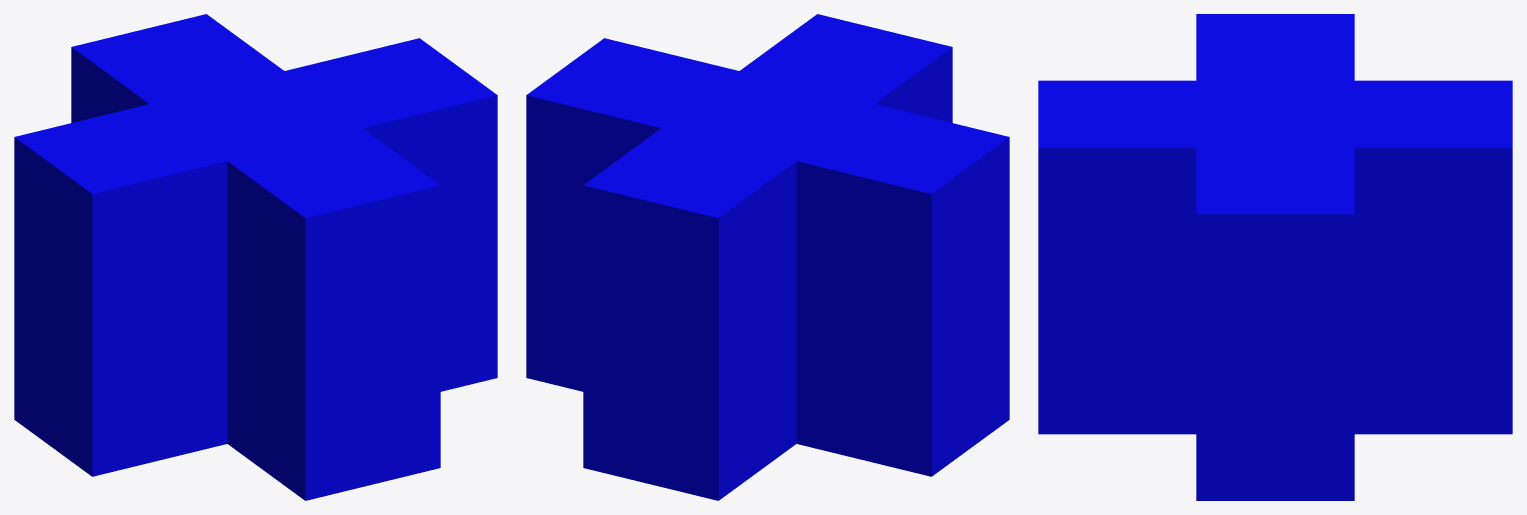
3 renders of one model, left to right at view 1: azimuth 30°, elevation 25°; view 2: azimuth 150°, elevation 25°; view 3: azimuth 270°, elevation 25°, orthographic.
Parts seen in each view (by area): view 1: 96.1; view 2: 96.1; view 3: 96.1.
Boxes of the visible parts, x1,y1,x2,y2 form: 96.1: [14, 14, 497, 500]; 96.1: [526, 14, 1009, 500]; 96.1: [1038, 14, 1512, 500].
Size of the model in its own units: 30 by 20 by 30.
1 material, 1 textured.
